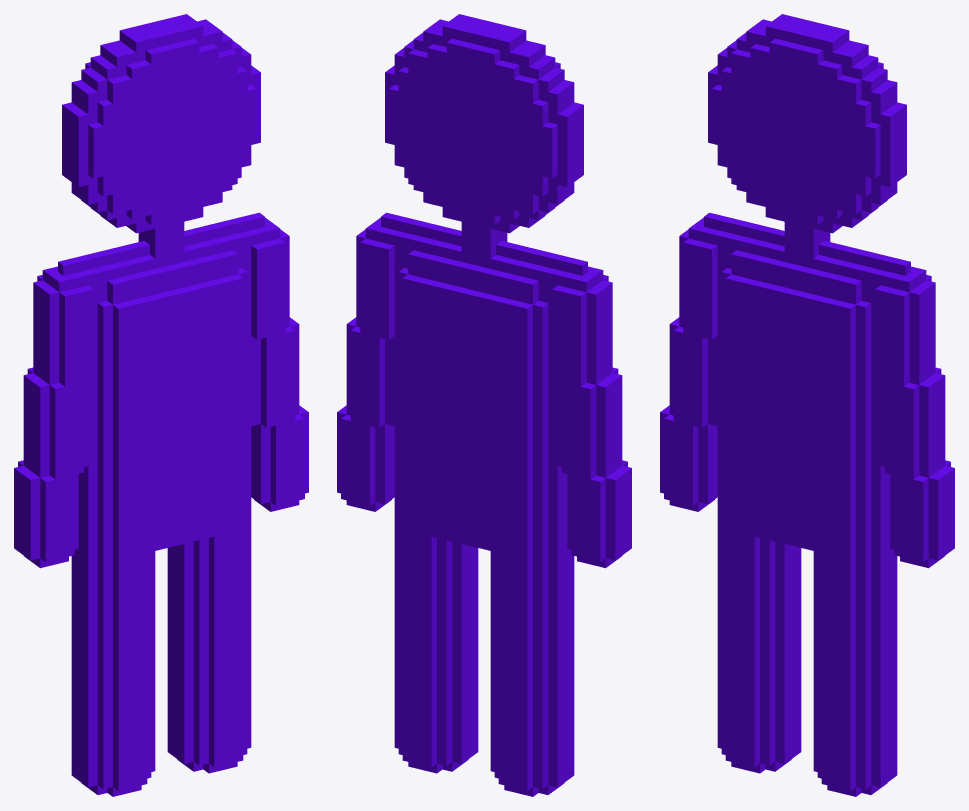
The model's file is teapot-2.obj.
3 views of the same model, side by side, from view 1: azimuth 30°, elevation 25°; view 2: azimuth 150°, elevation 25°; view 3: azimuth 330°, elevation 25° (orthographic).
Bounding box in the file's own units: 2.9 × 7.4 × 0.7.
1 material, 1 textured.
